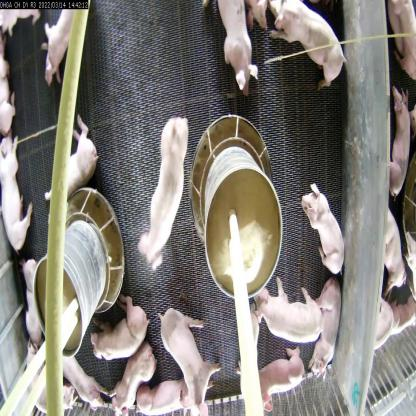Pig: (137, 113, 191, 274), (154, 296, 224, 416), (263, 0, 351, 91), (43, 113, 100, 229), (297, 178, 351, 282), (234, 344, 311, 415), (253, 274, 324, 350), (213, 2, 261, 104), (87, 292, 150, 364), (306, 278, 348, 385), (22, 340, 79, 415), (0, 136, 35, 257), (52, 348, 110, 416), (108, 341, 158, 415), (386, 82, 415, 204), (134, 376, 216, 416), (379, 202, 410, 302), (15, 256, 46, 351), (42, 8, 74, 90), (236, 299, 267, 381), (386, 0, 415, 86), (0, 37, 20, 136), (384, 288, 416, 344), (1, 1, 42, 36), (376, 292, 394, 358), (243, 0, 273, 36), (403, 222, 415, 307)
